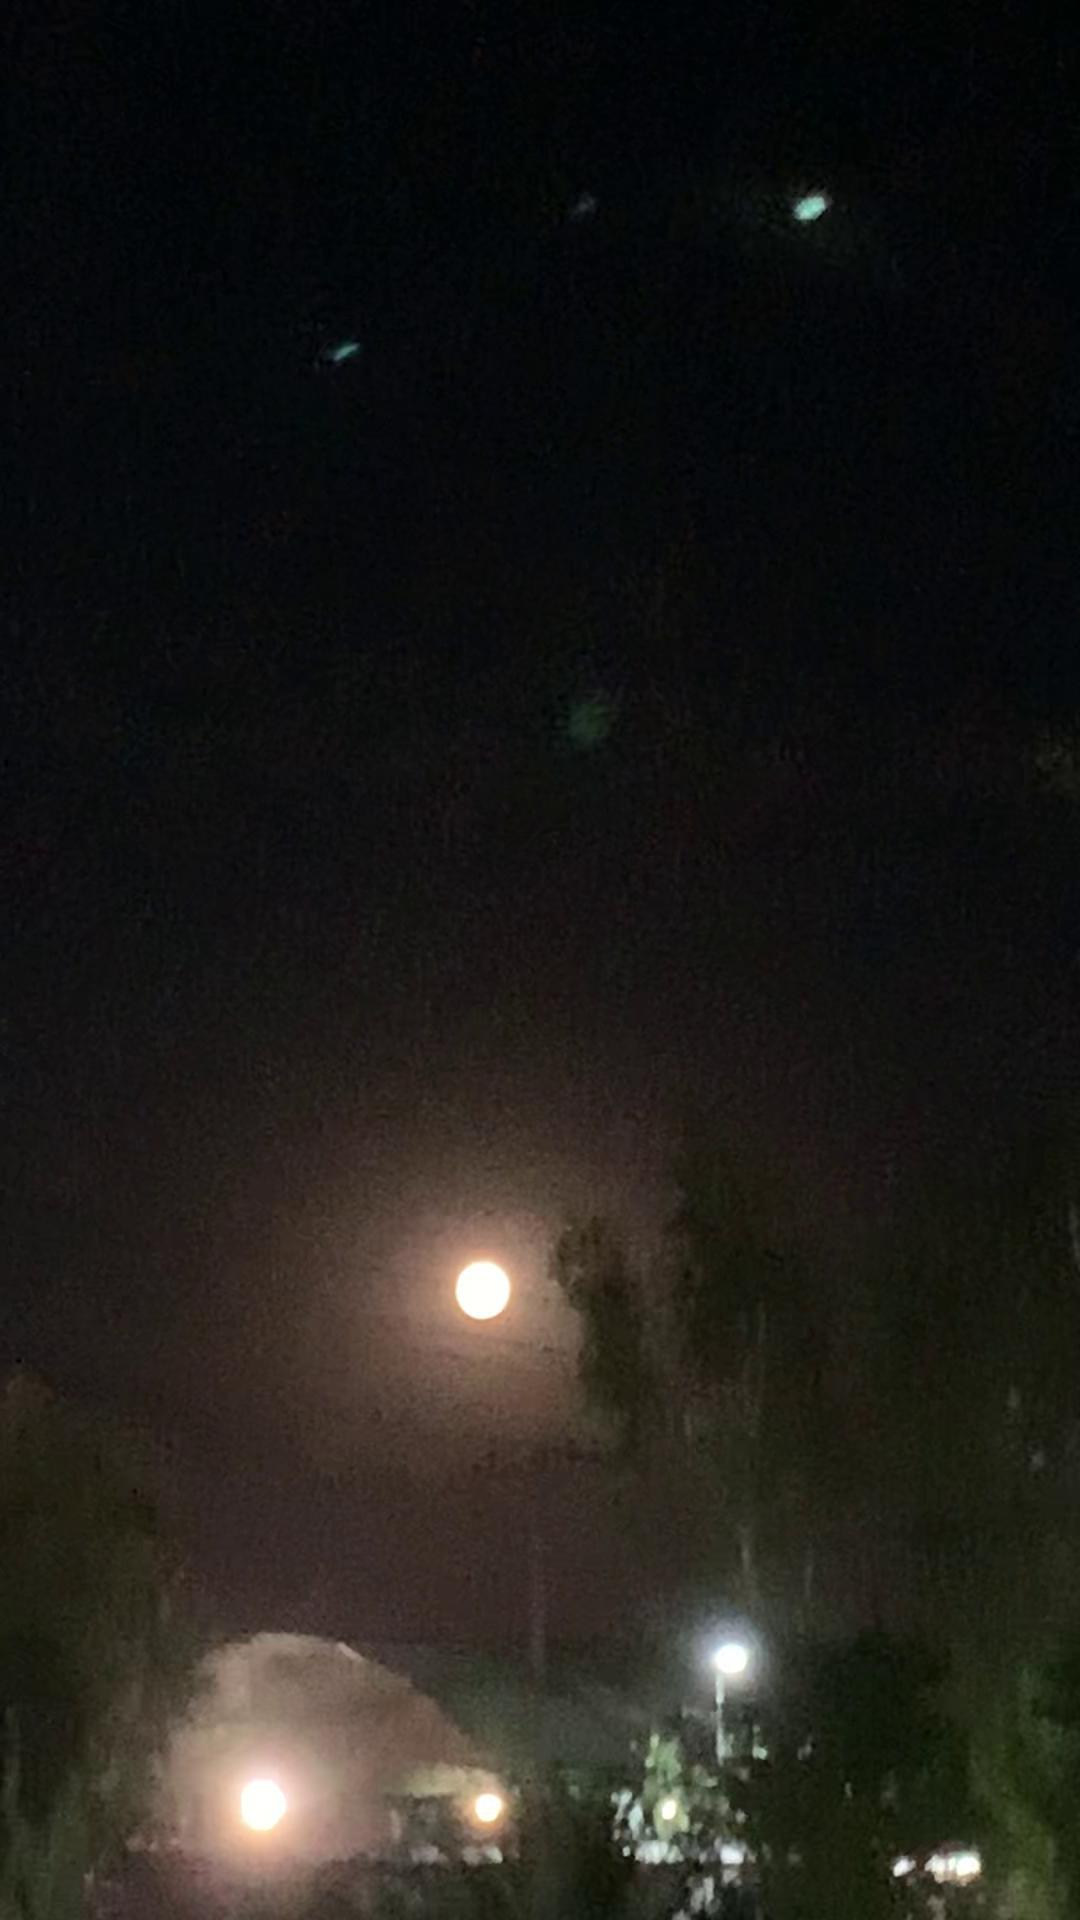moon: (436, 1244, 526, 1320)
